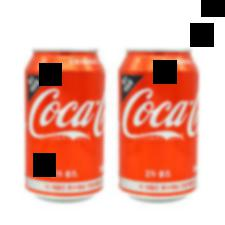cocacola: (13, 42, 110, 201), (112, 42, 205, 204)
